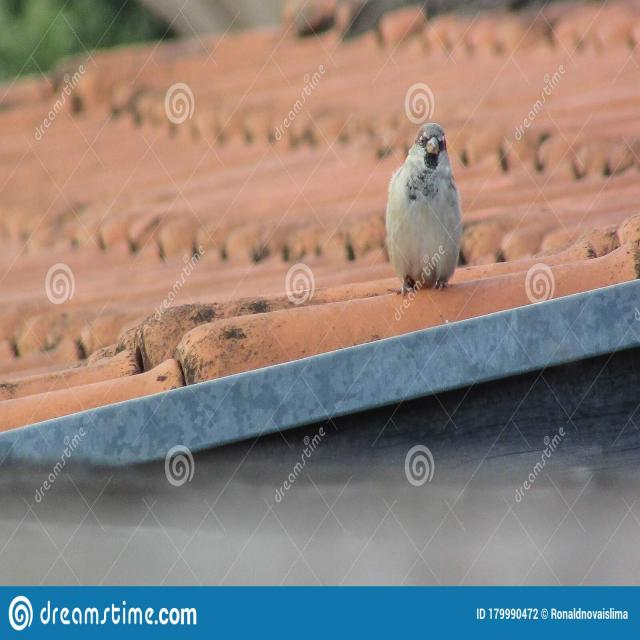bird: (384, 121, 464, 296)
